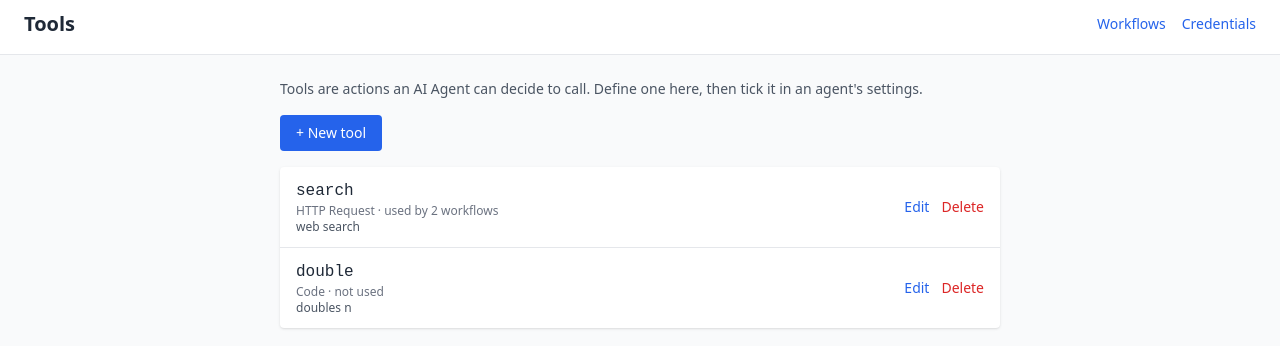
ToolsView › removes the row after a successful delete
Click the button with test id "delete-tool" in the row of "Code · not used" at x=963, y=288, box left=941, top=278, right=984, bottom=298
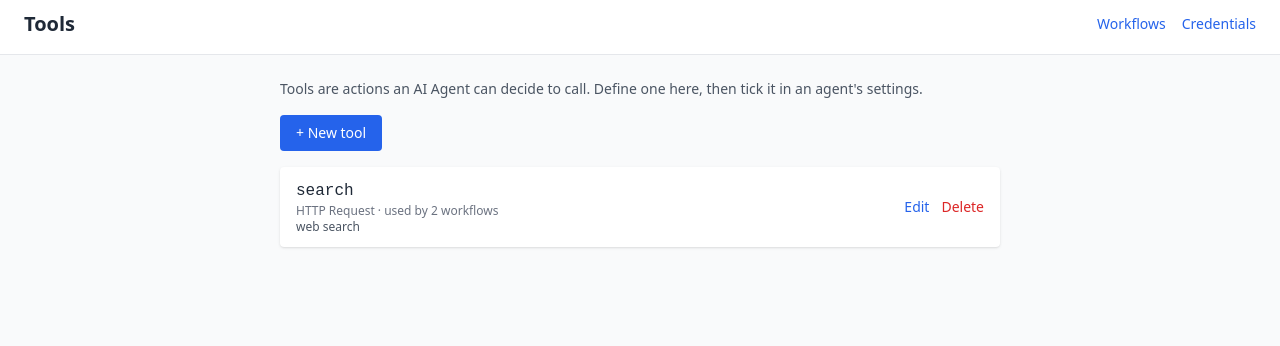
Check: the number of list items with test id "tool-row" is 1, box left=280, top=167, right=1000, bottom=247
